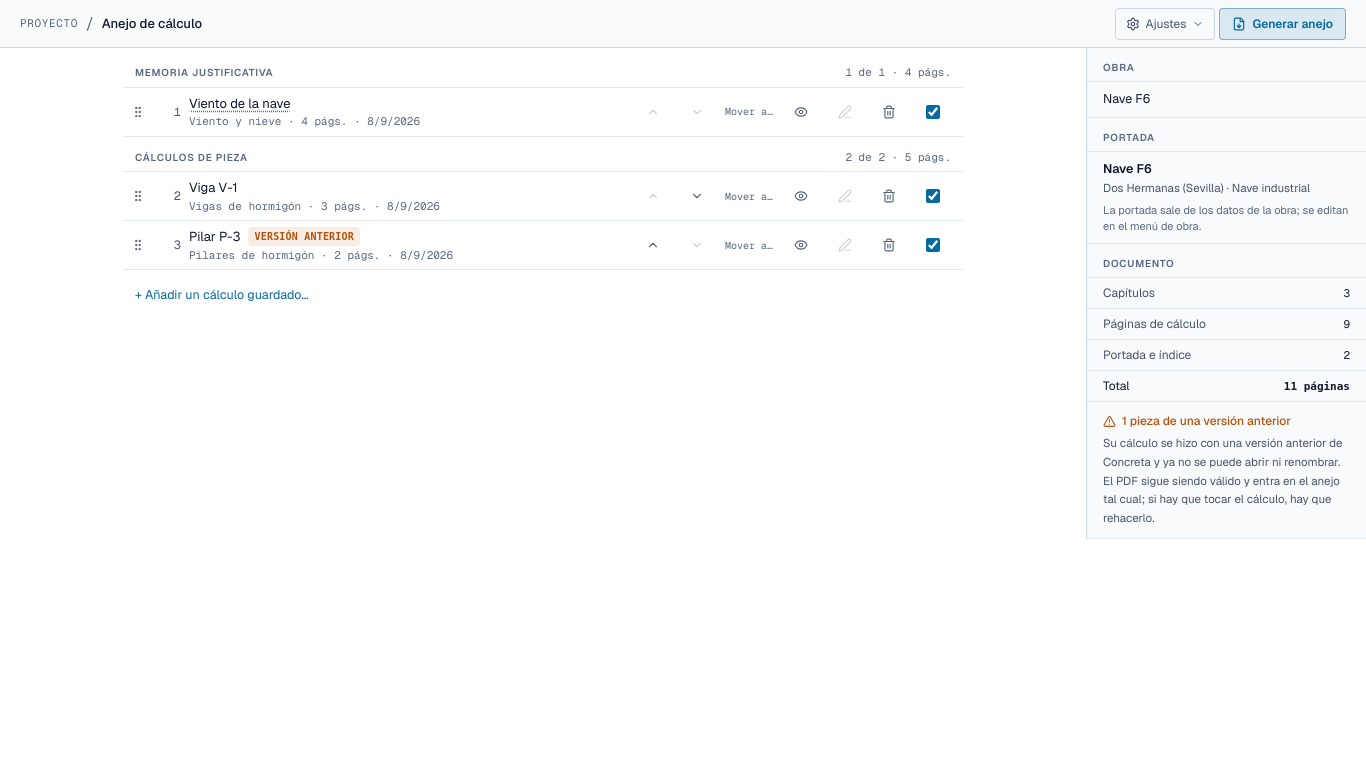
Test case: Anejo de cálculo › si una pieza falla, su fila se pone en rojo con el motivo y «Generar sin esta pieza» la deja fuera y repite
This screenshot has width=1366, height=768.
Click the button "Generar anejo": (1283, 24) [1219,8,1346,40]
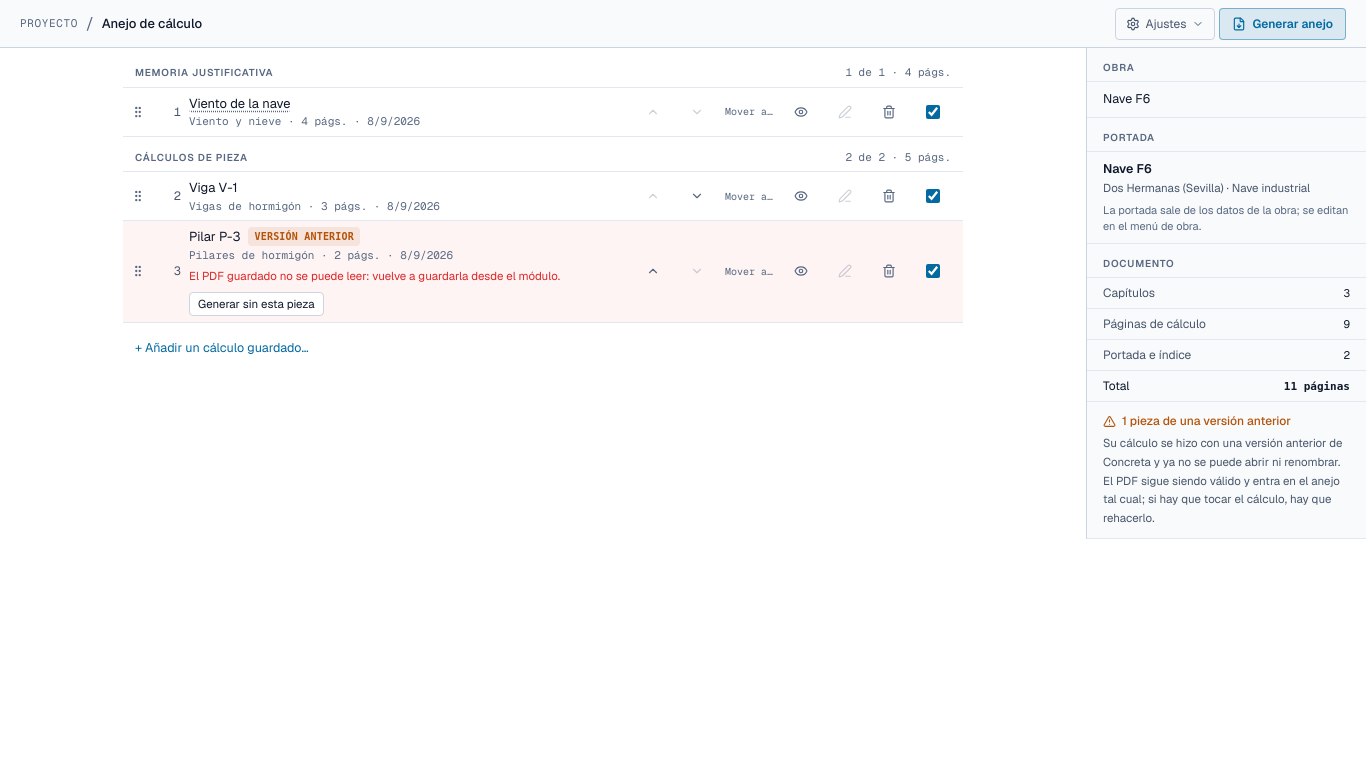
Now the message shows "El PDF guardado no se puede leer", box [189,268,560,283]
Click the button "Generar sin esta pieza": (256, 304) [189,292,324,316]
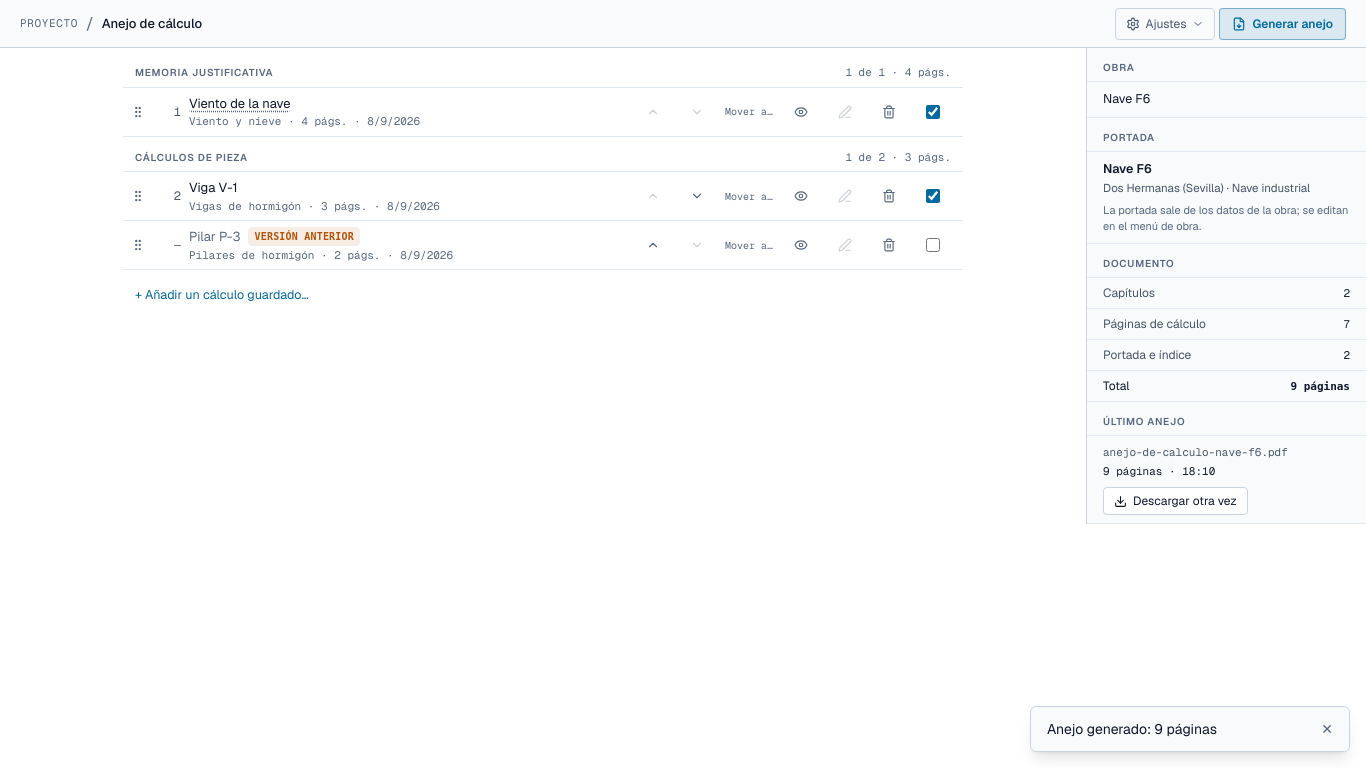
Now the message is gone
